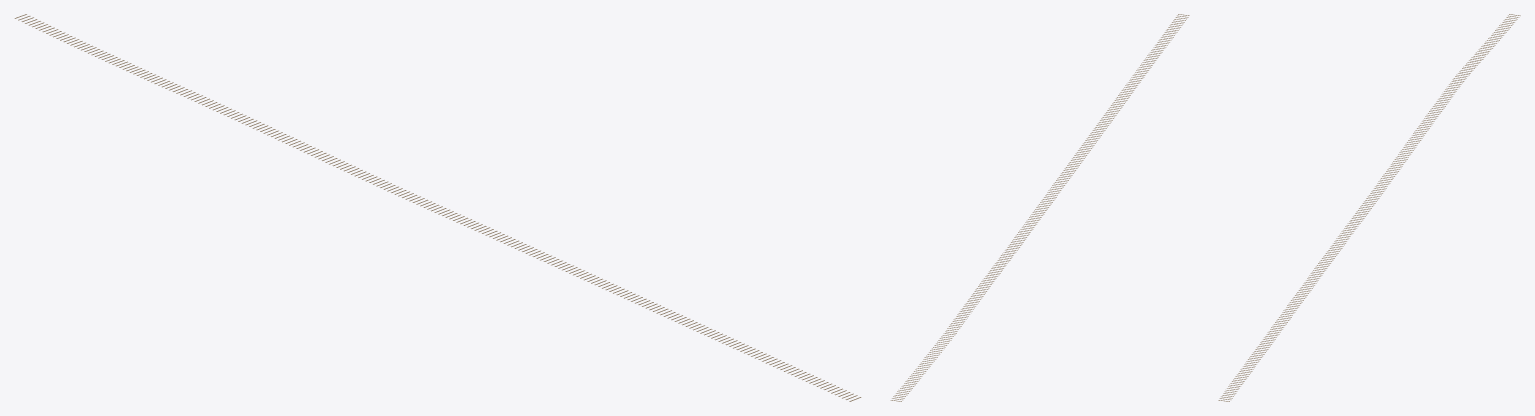
File: c_1629_17814_rail_sleeper.glb
3 renders of one model, left to right at view 1: azimuth 30°, elevation 25°; view 2: azimuth 150°, elevation 25°; view 3: azimuth 330°, elevation 25°, orthographic. The views are drawn at different scales.
Parts seen in each view (by area): view 1: geometry_0; view 2: geometry_0; view 3: geometry_0.
Boxes of the visible parts, x1,y1,x2,y2 form: geometry_0: (14,14,861,401); geometry_0: (890,14,1189,401); geometry_0: (1218,14,1520,401).
Size of the model in its own units: 42.17 by 0.629 by 181.
